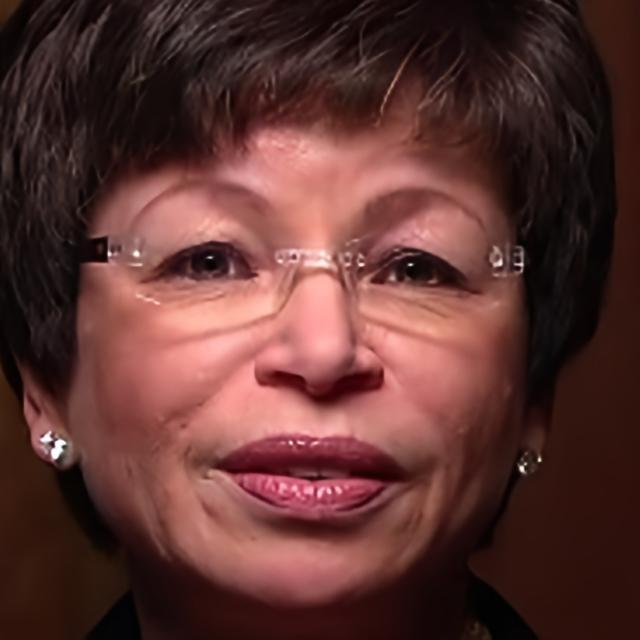neutral: (62, 57, 514, 610)
